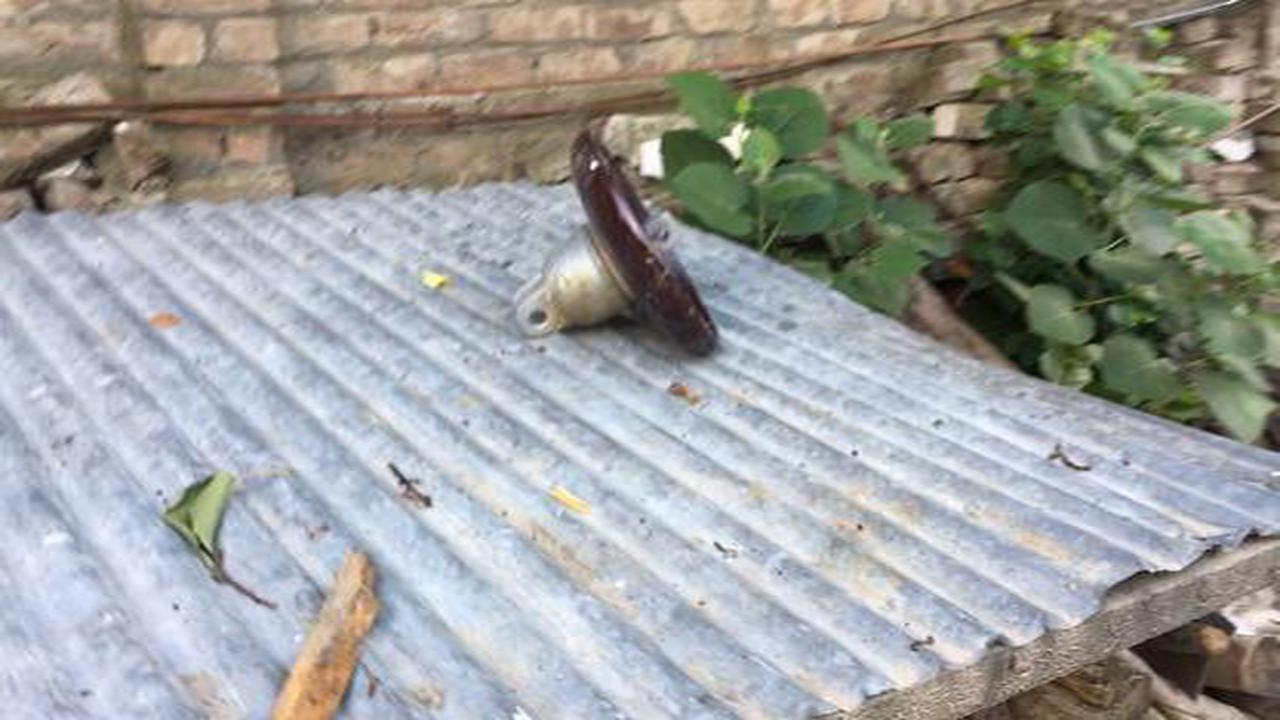insulator_disc: (509, 126, 726, 360)
